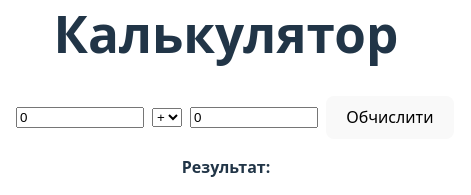
Test: Calculator UI › allows choosing operation: subtraction
The image size is (471, 195).
Replace the text in the number field named "Перше число" with "10": (80, 118) left=16, top=107, right=144, bottom=128
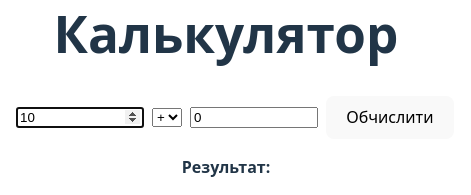
Replace the text in the number field named "Друге число" with "7": (254, 118) left=190, top=107, right=318, bottom=128
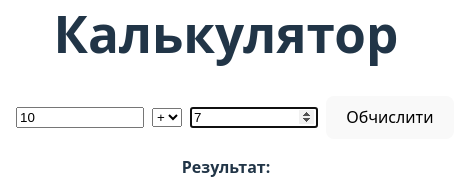
Select "−" in the dropdown named "Операція": (167, 118) left=152, top=108, right=182, bottom=127
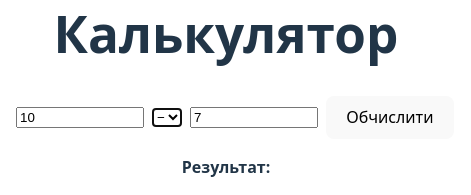
Click the button "Обчислити": (390, 118) left=326, top=96, right=454, bottom=139
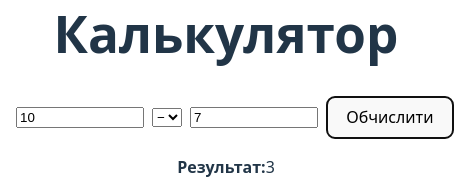
Result: the text "3" is shown at left=266, top=156, right=275, bottom=178
